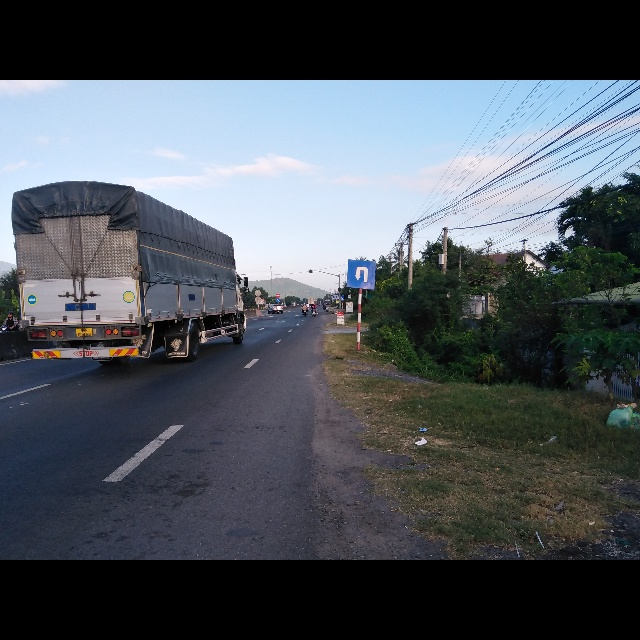Khu vực quay đầu xe: (346, 258, 375, 290)
